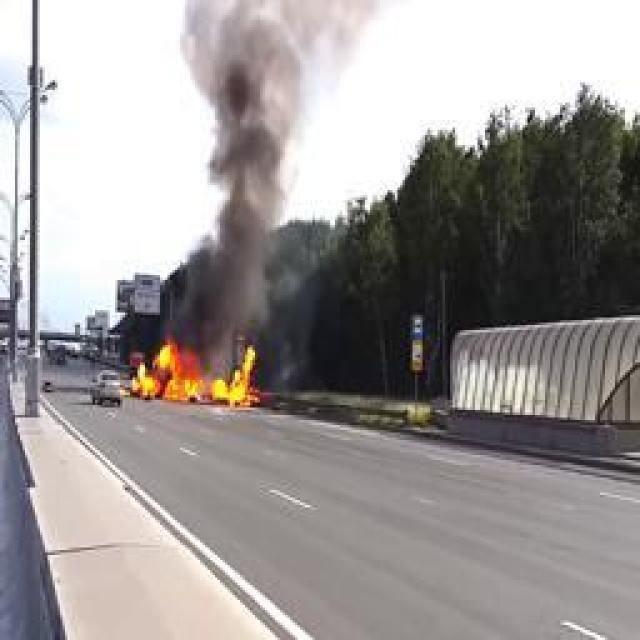Fire: (134, 339, 258, 409)
